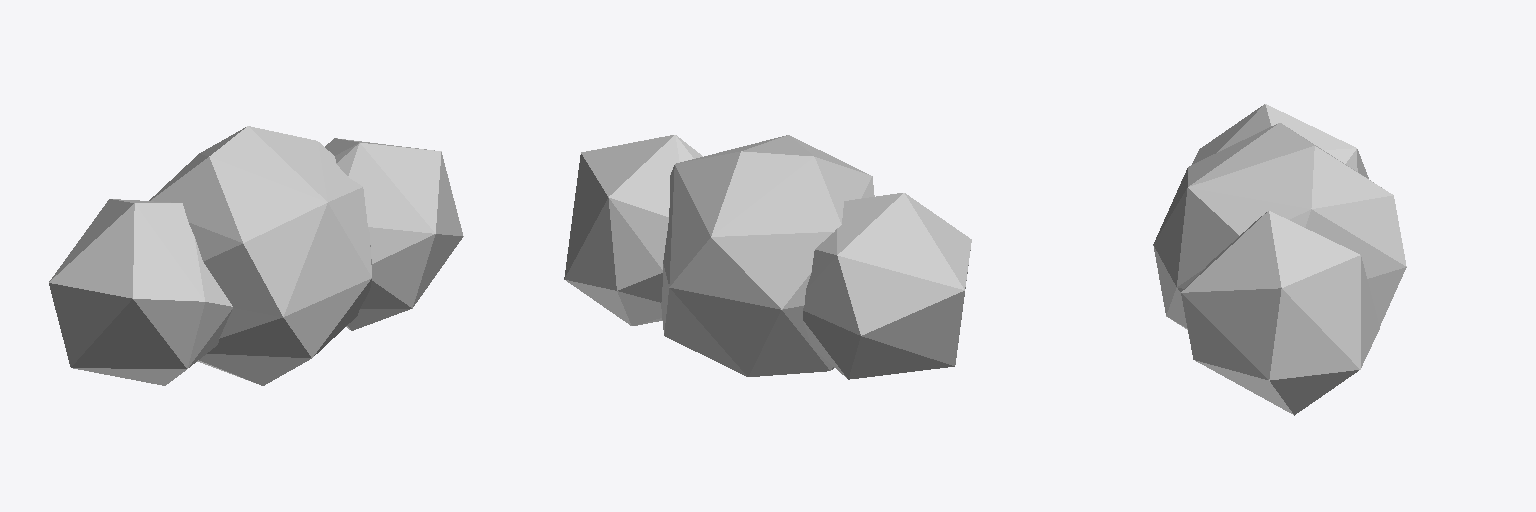
The picture shows the model from 3 angles: view 1: azimuth 30°, elevation 25°; view 2: azimuth 150°, elevation 25°; view 3: azimuth 270°, elevation 25°; orthographic projection.
Visible parts, largest first — view 1: Cloud_1_Icosphere.044; view 2: Cloud_1_Icosphere.044; view 3: Cloud_1_Icosphere.044.
Part boxes in pixels (x1,y1,x2,y2): Cloud_1_Icosphere.044: (49, 126, 463, 385); Cloud_1_Icosphere.044: (564, 135, 971, 379); Cloud_1_Icosphere.044: (1153, 104, 1406, 415).
Size of the model in its own units: 3.66 by 1.99 by 1.99.
Materials: 1 (1 with a texture image).